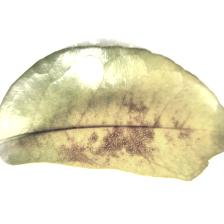canker: (33, 104, 193, 160)
